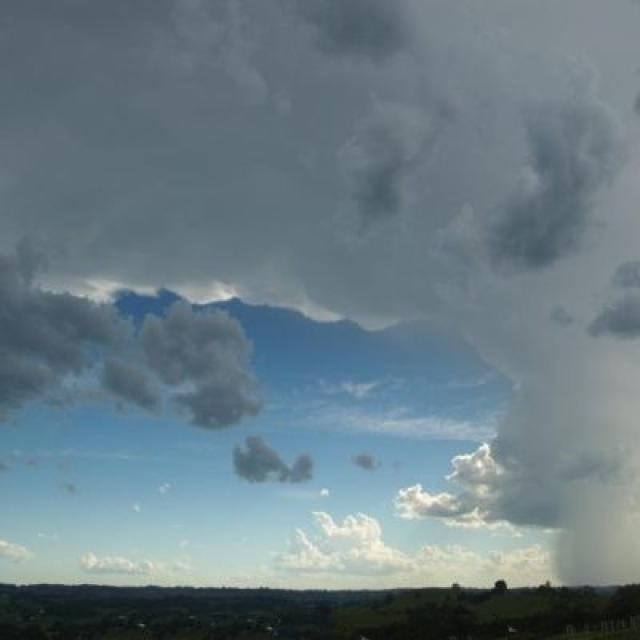Cb: (1, 85, 640, 498)
